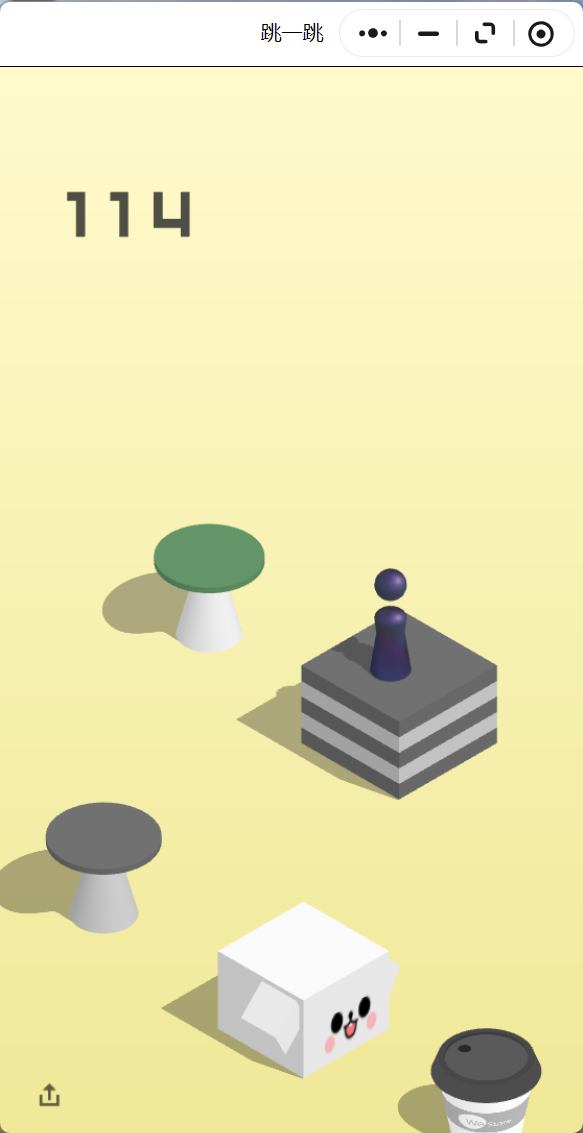piece: (375, 568, 406, 677)
target: (155, 524, 265, 586)
